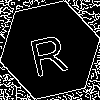R: (25, 25, 70, 78)
